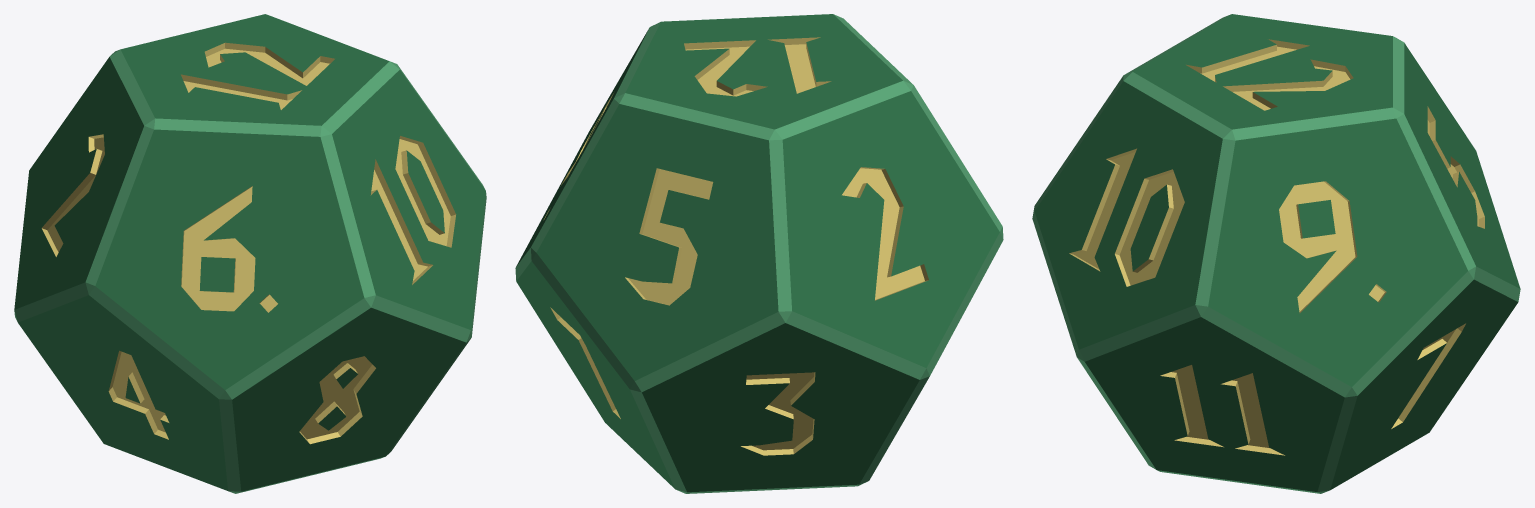
Rendered from d12-twelve-sided-die-20ae99.glb.
The picture shows the model from 3 angles, left to right: view 1: azimuth 30°, elevation 25°; view 2: azimuth 150°, elevation 25°; view 3: azimuth 270°, elevation 25°; orthographic projection. The views are drawn at different scales.
Visible parts, largest first — view 1: resin, numerals; view 2: resin, numerals; view 3: resin, numerals.
Part boxes in pixels (x1=…): resin: x1=14, y1=14, x2=486, y2=493; numerals: x1=41, y1=42, x2=456, y2=444; resin: x1=515, y1=14, x2=1003, y2=493; numerals: x1=544, y1=37, x2=928, y2=455; resin: x1=1032, y1=14, x2=1520, y2=493; numerals: x1=1069, y1=39, x2=1484, y2=455.
Size of the model in its own units: 0.0208 by 0.018 by 0.0219.
